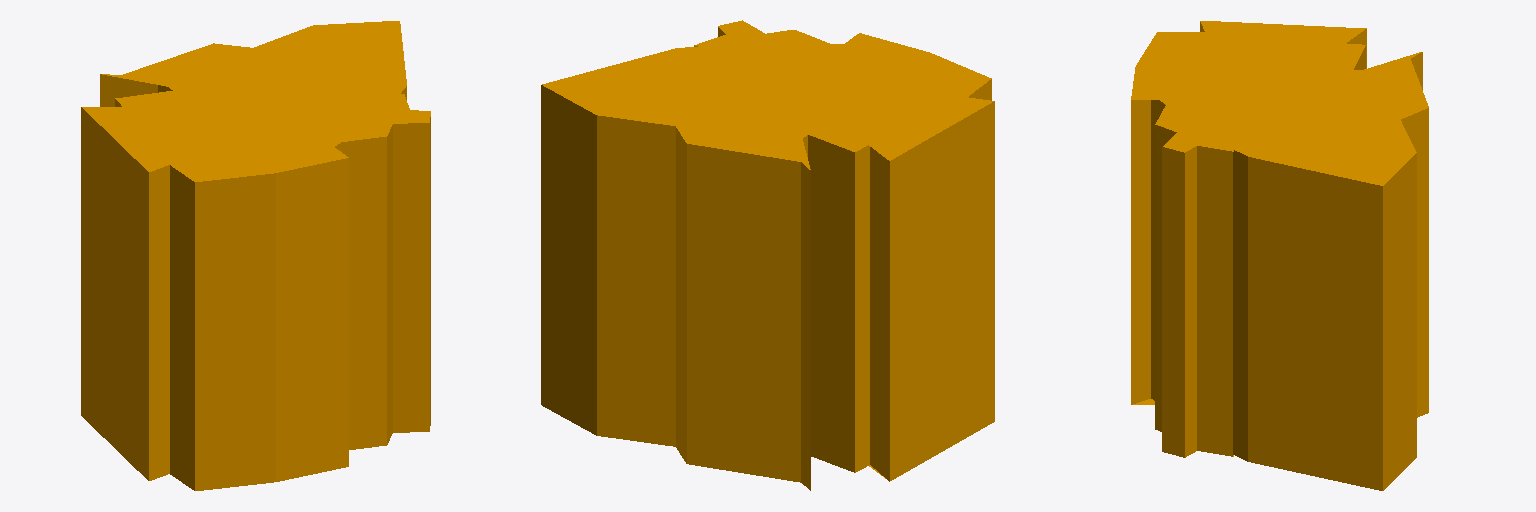
URDF robot description (drink_yykx):
<?xml version="1.0"?>
<robot name="drink_yykx">
  <link name="base_link">
    <inertial>
      <origin xyz="0 0 0" rpy="0 0 0"/>
      <mass value="0.550000"/>
      <inertia ixx="0.00402575" ixy="0.0" ixz="0.0" iyy="0.00532122" iyz="0.0" izz="0.00483436"/>
    </inertial>
    <visual>
      <origin xyz="0 0 0" rpy="0 0 0"/>
      <geometry>
        <mesh filename="drink_yykx.obj" scale="1.0 1.0 1.0"/>
      </geometry>
    </visual>
    <collision>
      <origin xyz="0 0 0" rpy="0 0 0"/>
      <geometry>
        <mesh filename="drink_yykx_collision.obj" scale="1.0 1.0 1.0"/>
      </geometry>
    </collision>
  </link>
</robot>

--- What the picture shows (computed from the rendered views, not written in the file) ---
3 views of the same robot in one strip: view 1: azimuth 30°, elevation 25°; view 2: azimuth 150°, elevation 25°; view 3: azimuth 270°, elevation 25° (orthographic).
Model drink_yykx with 1 links and 0 joints (none), rooted at base_link, posed every joint at zero.
Links seen in each view (by area): view 1: base_link; view 2: base_link; view 3: base_link.
Boxes of the visible links, x1=… form: base_link: x1=81, y1=21, x2=430, y2=490; base_link: x1=541, y1=20, x2=994, y2=490; base_link: x1=1131, y1=21, x2=1428, y2=490.
Bounding box of the posed robot: 0.2586 × 0.1965 × 0.2219 m (x, y, z).
Meshes: 1 distinct files referenced, 1 mesh visuals loaded (1 OBJ).
